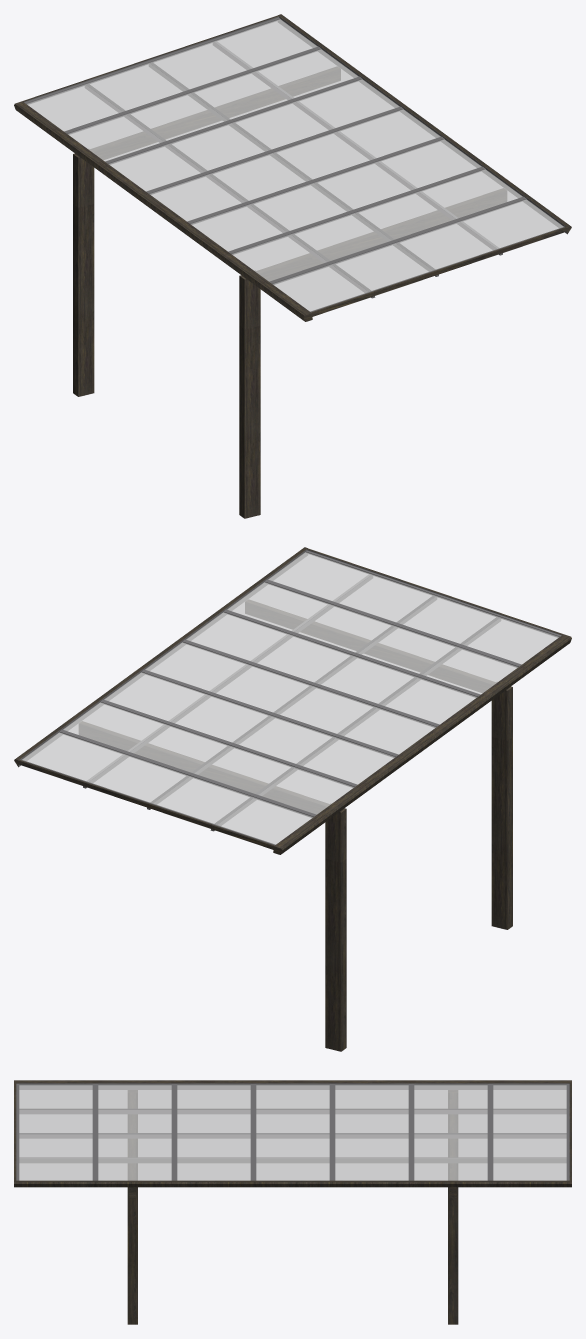
Rendered from 2750-22_blackebony.fbx.
The picture shows the model from 3 angles, top to bottom: view 1: azimuth 30°, elevation 25°; view 2: azimuth 150°, elevation 25°; view 3: azimuth 270°, elevation 25°; orthographic projection. The views are drawn at different scales.
Parts seen in each view (by area): view 1: 2750-22blackebony; view 2: 2750-22blackebony; view 3: 2750-22blackebony.
Boxes of the visible parts, left/top/right/bottom form: 2750-22blackebony: left=14, top=14, right=571, bottom=518; 2750-22blackebony: left=14, top=547, right=571, bottom=1051; 2750-22blackebony: left=14, top=1080, right=571, bottom=1324.
Size of the model in its own units: 270 by 260 by 505.
Materials: 4 (2 with a texture image).
